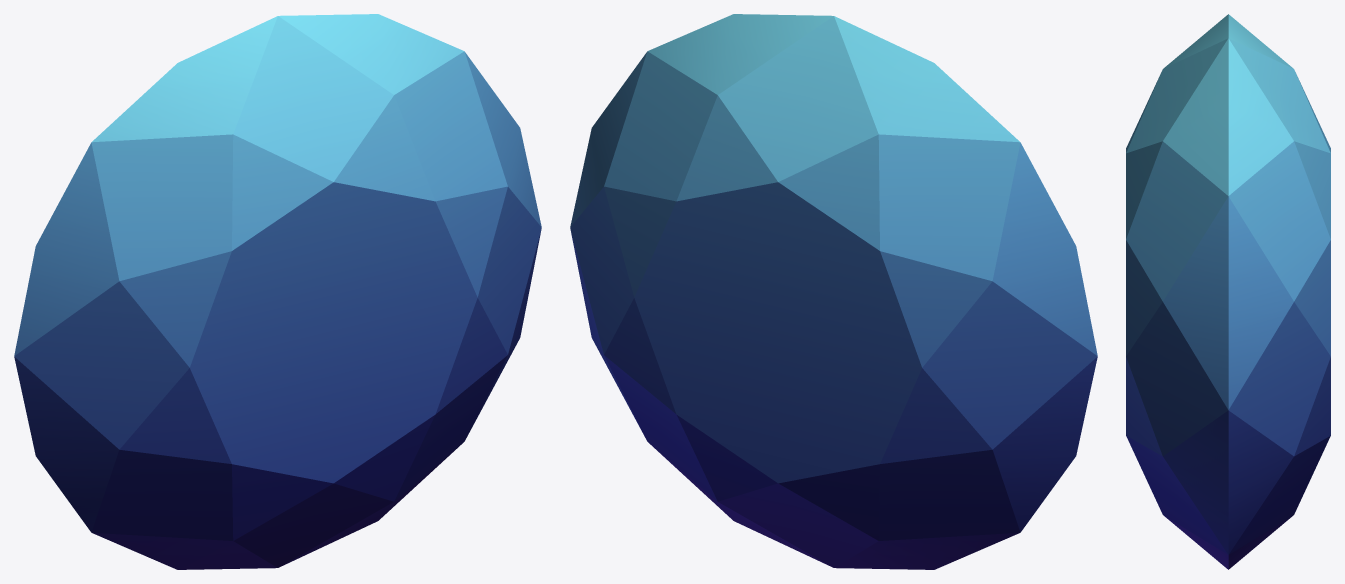
File: Sapphire_03.glb
3 renders of one model, left to right at view 1: azimuth 30°, elevation 25°; view 2: azimuth 150°, elevation 25°; view 3: azimuth 270°, elevation 25°, orthographic. The views are drawn at different scales.
Parts seen in each view (by area): view 1: Sapphire_03; view 2: Sapphire_03; view 3: Sapphire_03.
Part boxes in pixels (bbox=[...]): Sapphire_03: bbox=[14, 14, 541, 569]; Sapphire_03: bbox=[570, 14, 1097, 569]; Sapphire_03: bbox=[1126, 14, 1330, 569].
Size of the model in its own units: 0.5168 by 0.5168 by 0.1891.
Materials: 1 (1 with a texture image).
